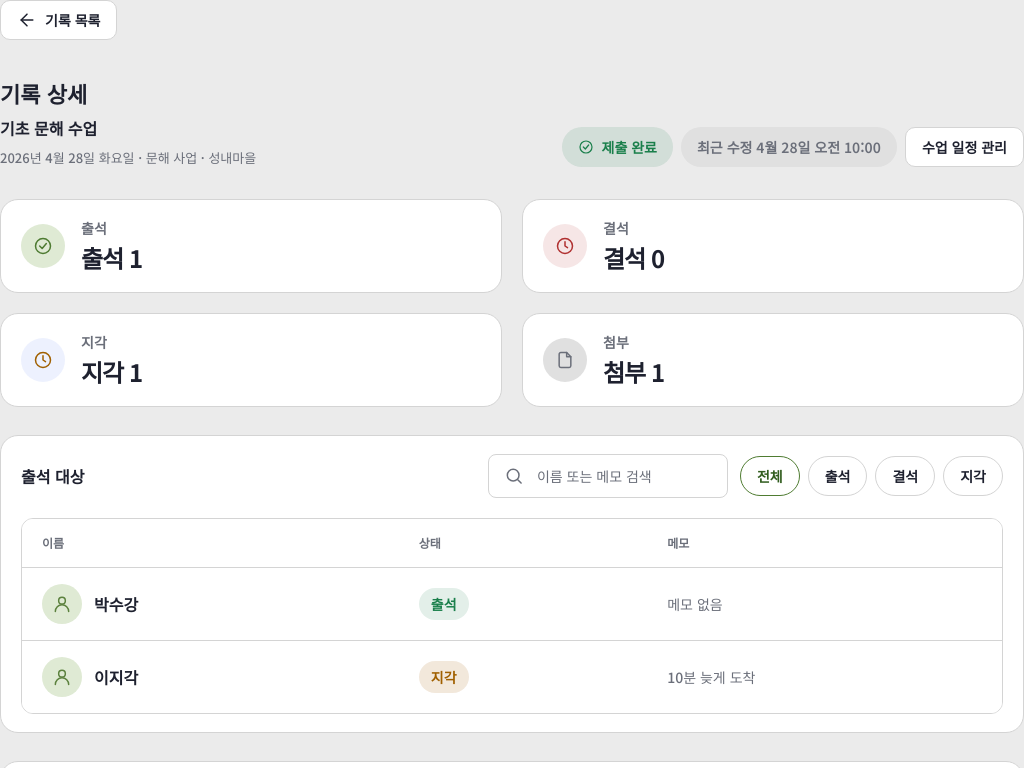
RecordDetailScreen › renders the redesigned record detail console with working filters and links
Expected: the heading "기록 상세" is shown, top-left (0, 77), bottom-right (87, 109)
Expected: the text "출석 1" is shown, top-left (81, 242), bottom-right (142, 274)
Click the button "지각".
click(973, 476)  # box top-left (943, 456), bottom-right (1003, 496)
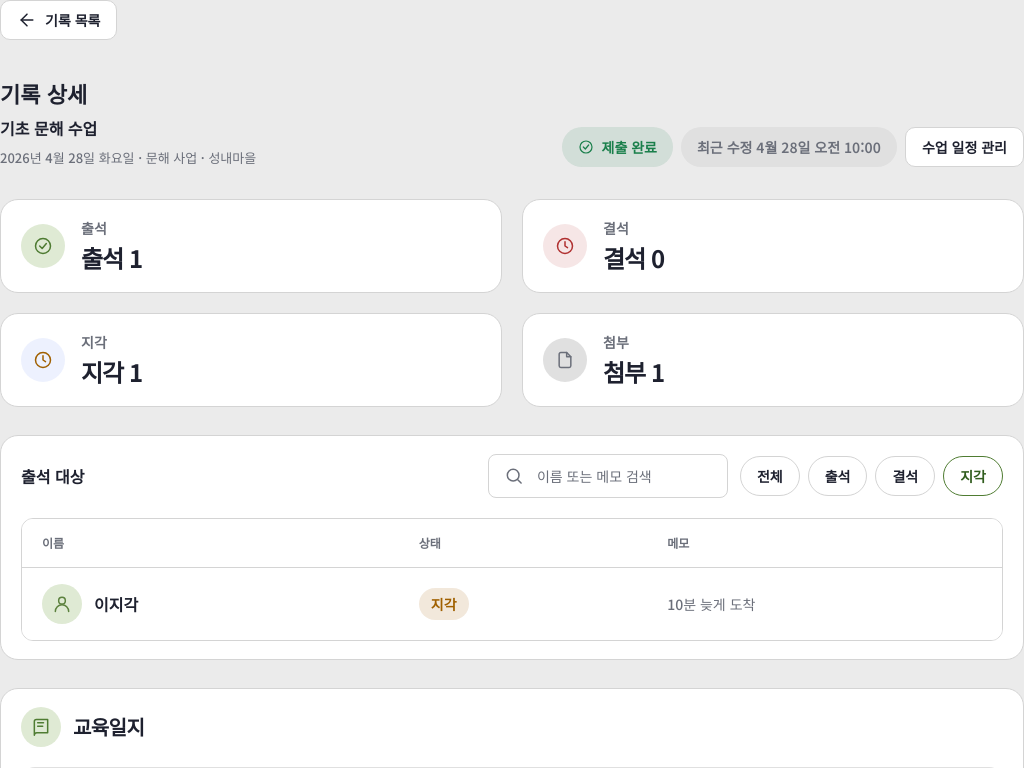
Expected: the text "이지각" is shown, top-left (94, 592), bottom-right (138, 616)
Expected: the text "박수강" is gone
Type "없는 이름" into the field with placeholder "이름 또는 메모 검색".
click(608, 476); type("없는 이름")  # box top-left (488, 454), bottom-right (728, 498)
(page scrolled)
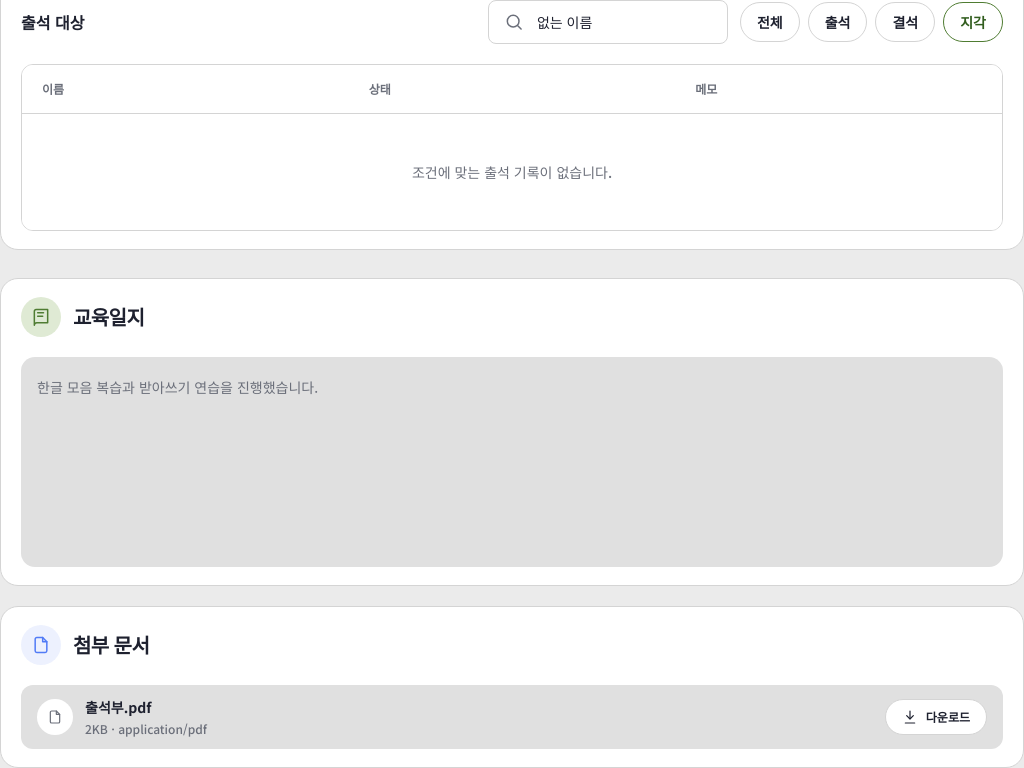
Expected: the text "조건에 맞는 출석 기록이 없습니다." is shown, top-left (22, 114), bottom-right (1002, 230)
